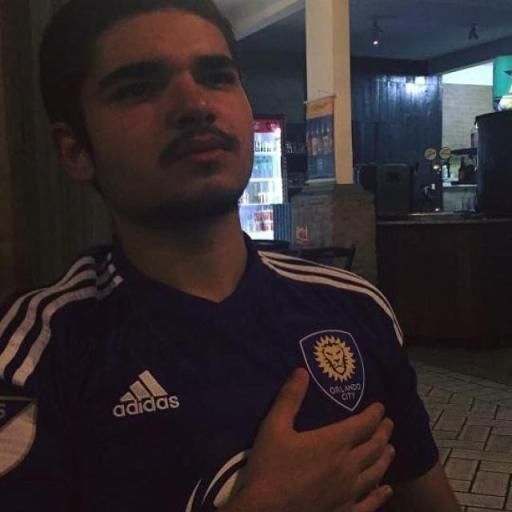Adidas: (109, 366, 183, 421)
